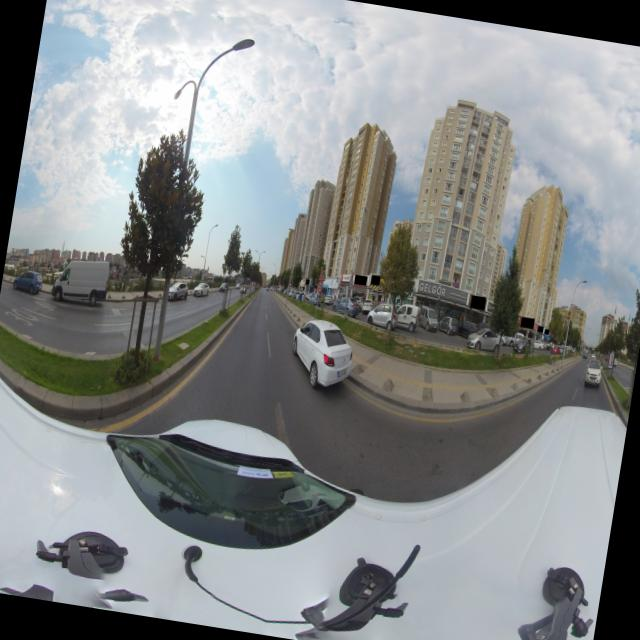SignStore: (418, 281, 449, 298), (470, 295, 486, 310), (521, 317, 534, 329), (354, 276, 368, 285), (371, 276, 381, 286), (341, 275, 351, 282), (538, 326, 543, 333), (544, 329, 549, 335), (306, 280, 310, 285)
